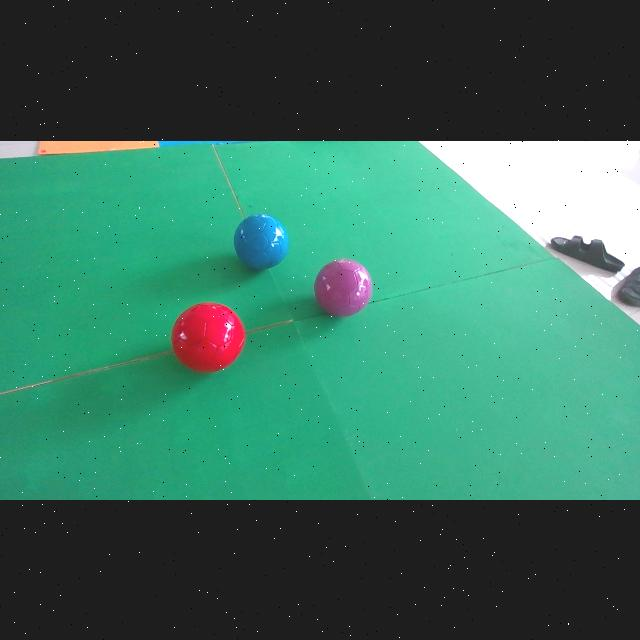B: (234, 212, 289, 269)
P: (314, 259, 372, 316)
R: (172, 301, 246, 372)
